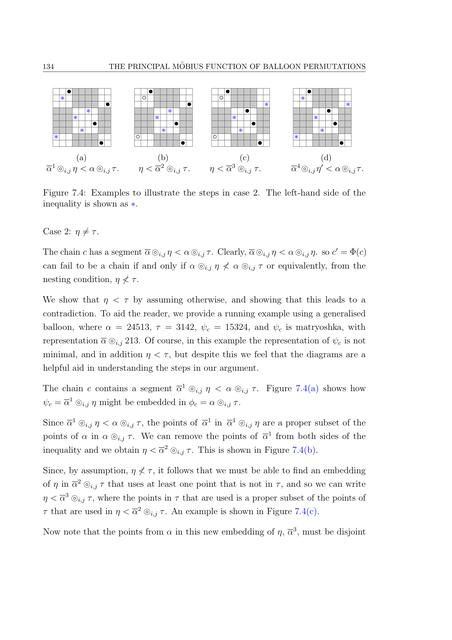box: (50, 85, 356, 150)
